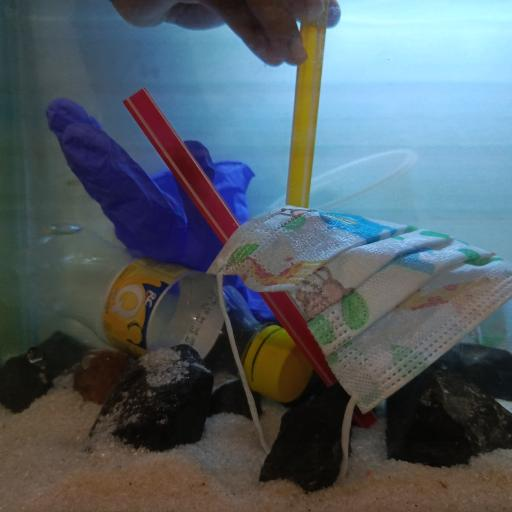bottle_cap: (255, 326, 310, 401)
glove: (44, 98, 271, 317)
mask: (209, 205, 508, 413)
plastic_bottle: (19, 218, 312, 404)
plastic_cup: (261, 150, 419, 227)
plastic_straw: (126, 86, 378, 430), (287, 0, 325, 206)
